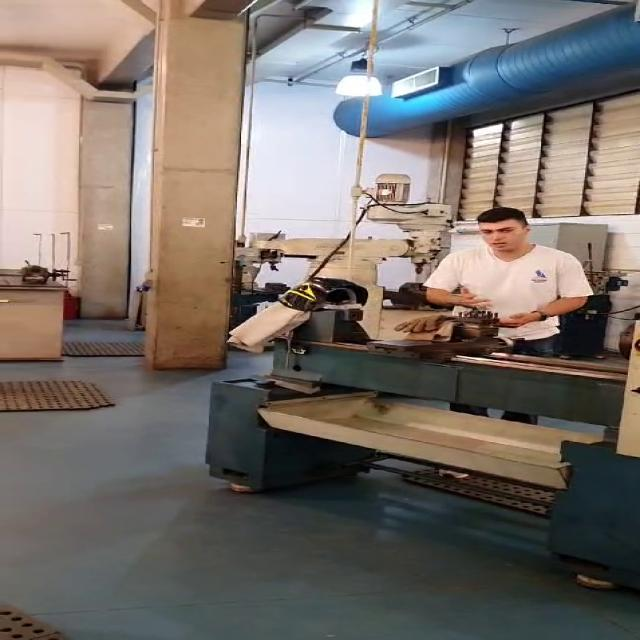sem_oculos: (475, 222, 532, 238)
